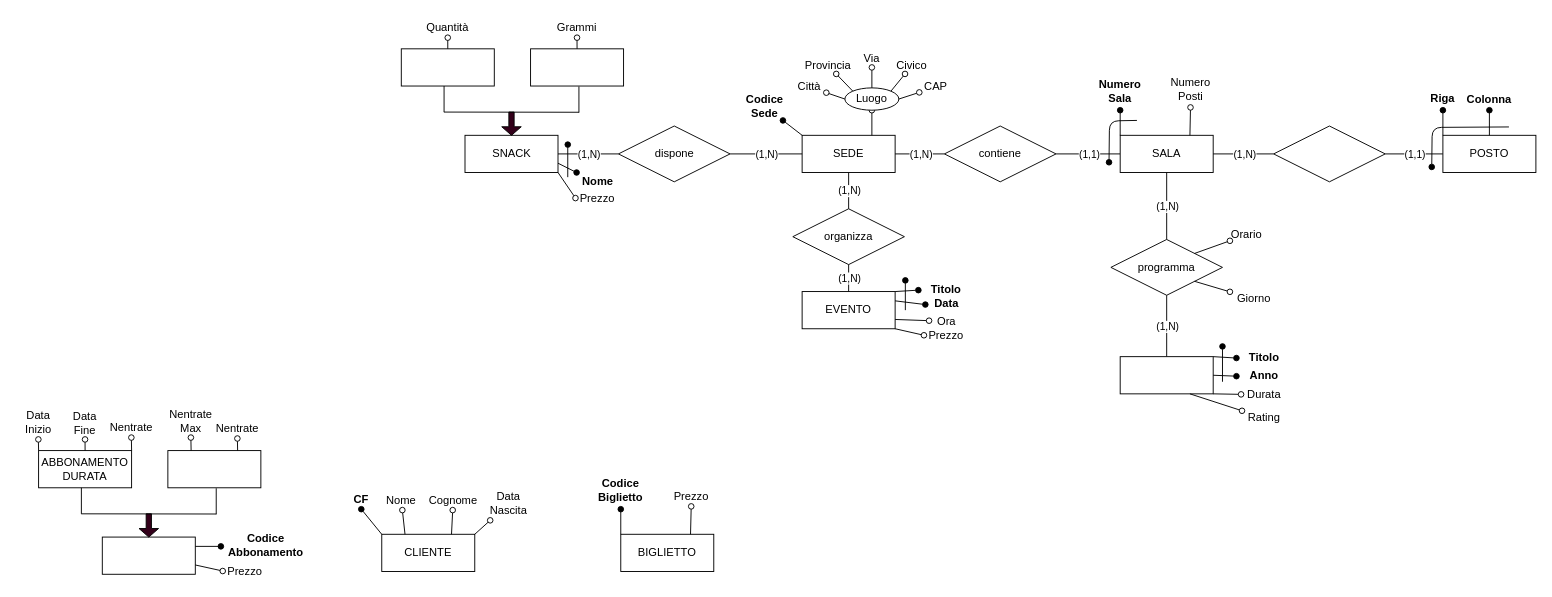
This 1552x597 diagram has some shape labels left out. Here are the shapes that lost their labels. From the top down, the centre of each, then its label:
(x=447, y=67): SACCHETTO
(x=577, y=67): POP CORN
(x=1329, y=153): possiede
(x=1166, y=375): FILM
(x=214, y=469): ABBONAMENTO ENTRATE
(x=148, y=555): ABBONAMENTO
